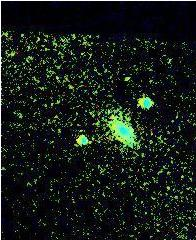star: (114, 64, 144, 94)
